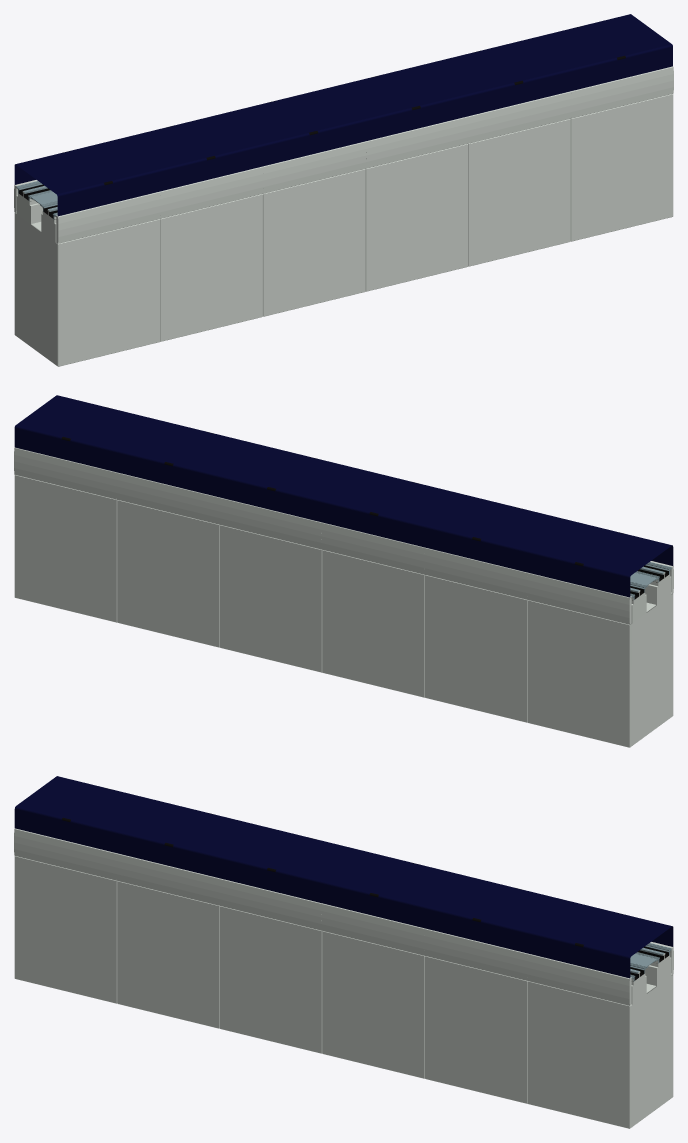
Rendered from Automation Track x3.obj.
3 renders of one model, top to bottom at view 1: azimuth 30°, elevation 25°; view 2: azimuth 150°, elevation 25°; view 3: azimuth 330°, elevation 25°, orthographic.
Parts seen in each view (by area): view 1: object1, object4, object2; view 2: object1, object4, object2; view 3: object1, object4, object2.
Part boxes in pixels (x1,y1,x2,y2): object1: (14, 66, 673, 366); object4: (14, 14, 672, 216); object2: (15, 181, 57, 220); object1: (14, 447, 673, 747); object4: (14, 395, 673, 597); object2: (630, 562, 672, 600); object1: (14, 828, 673, 1128); object4: (14, 776, 673, 978); object2: (630, 943, 671, 981).
Size of the model in its own units: 159 by 42.31 by 19.83.
